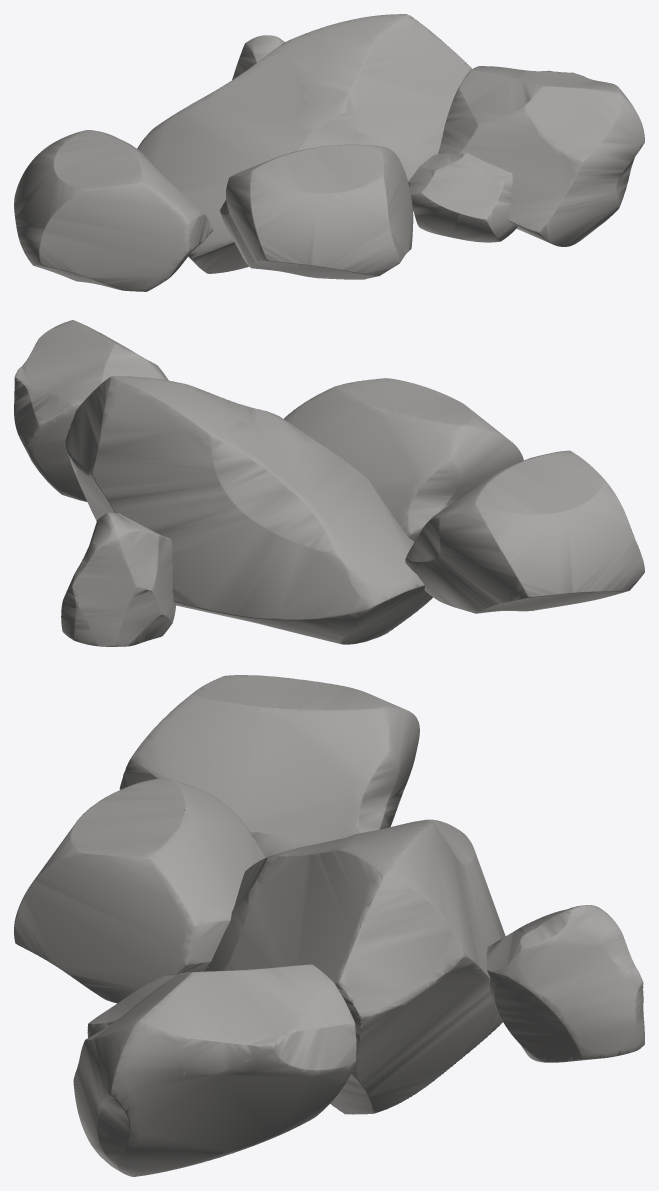
File: StoneVanilla2.fbx
3 views of the same model, one above another, from view 1: azimuth 30°, elevation 25°; view 2: azimuth 150°, elevation 25°; view 3: azimuth 270°, elevation 25° (orthographic). The views are drawn at different scales.
Parts seen in each view (by area): view 1: Stone2_LOD0; view 2: Stone2_LOD0; view 3: Stone2_LOD0.
Boxes of the visible parts, left/top/right/bottom form: Stone2_LOD0: left=14, top=14, right=644, bottom=291; Stone2_LOD0: left=14, top=320, right=644, bottom=646; Stone2_LOD0: left=14, top=675, right=644, bottom=1176.
Size of what is drawn, in the model's own units: 641 by 220 by 450.
Materials: 1 (1 with a texture image).
